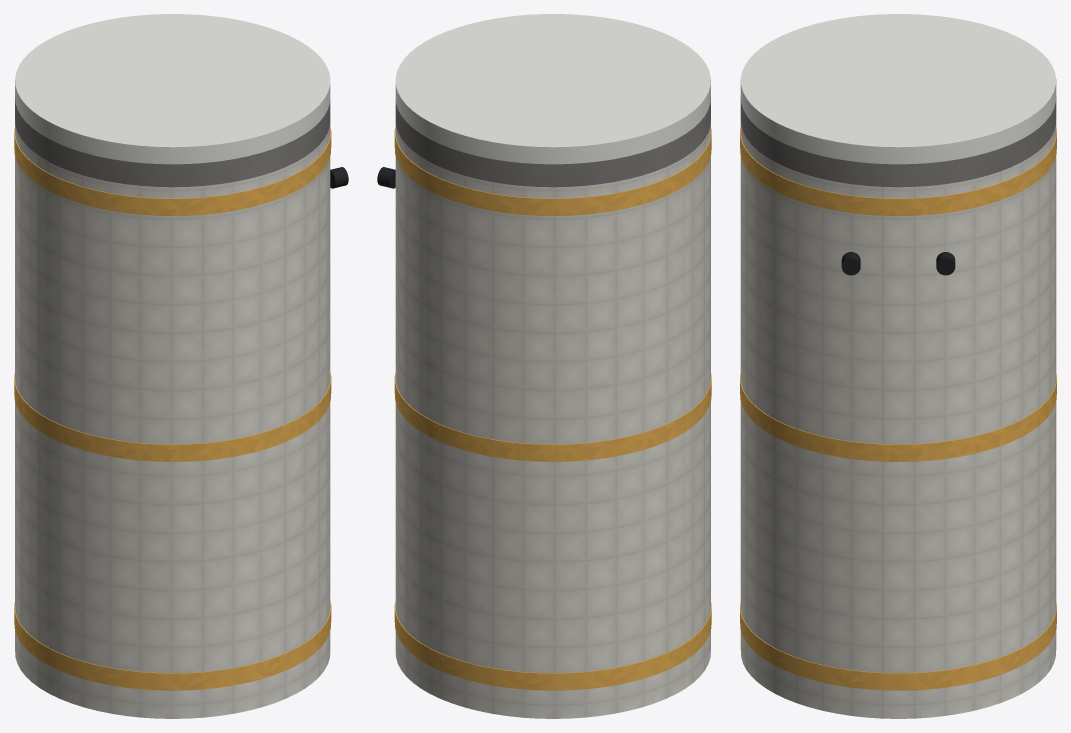
File: sci05_survey_telescope_m.glb
3 views of the same model, side by side, from view 1: azimuth 30°, elevation 25°; view 2: azimuth 150°, elevation 25°; view 3: azimuth 270°, elevation 25° (orthographic).
Parts seen in each view (by area): view 1: tube, door, tube_bands, baffle; view 2: tube, door, tube_bands, baffle; view 3: tube, door, tube_bands, baffle, star_trackers.
Boxes of the visible parts, bbox=[...] form: tube: bbox=[15, 120, 330, 718]; door: bbox=[15, 14, 330, 164]; tube_bands: bbox=[14, 126, 331, 690]; baffle: bbox=[15, 97, 330, 187]; tube: bbox=[395, 120, 710, 718]; door: bbox=[395, 14, 710, 164]; tube_bands: bbox=[394, 126, 711, 690]; baffle: bbox=[395, 97, 710, 187]; tube: bbox=[740, 119, 1056, 718]; door: bbox=[740, 14, 1056, 164]; tube_bands: bbox=[740, 128, 1056, 690]; baffle: bbox=[740, 96, 1056, 187]; star_trackers: bbox=[841, 252, 955, 275].
Size of the model in its own units: 2.6 by 5 by 2.51.
7 materials, 3 textured.
